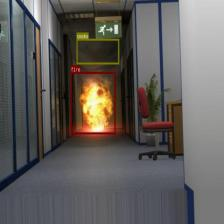fire: (71, 72, 116, 134)
smoke: (76, 38, 119, 64)
